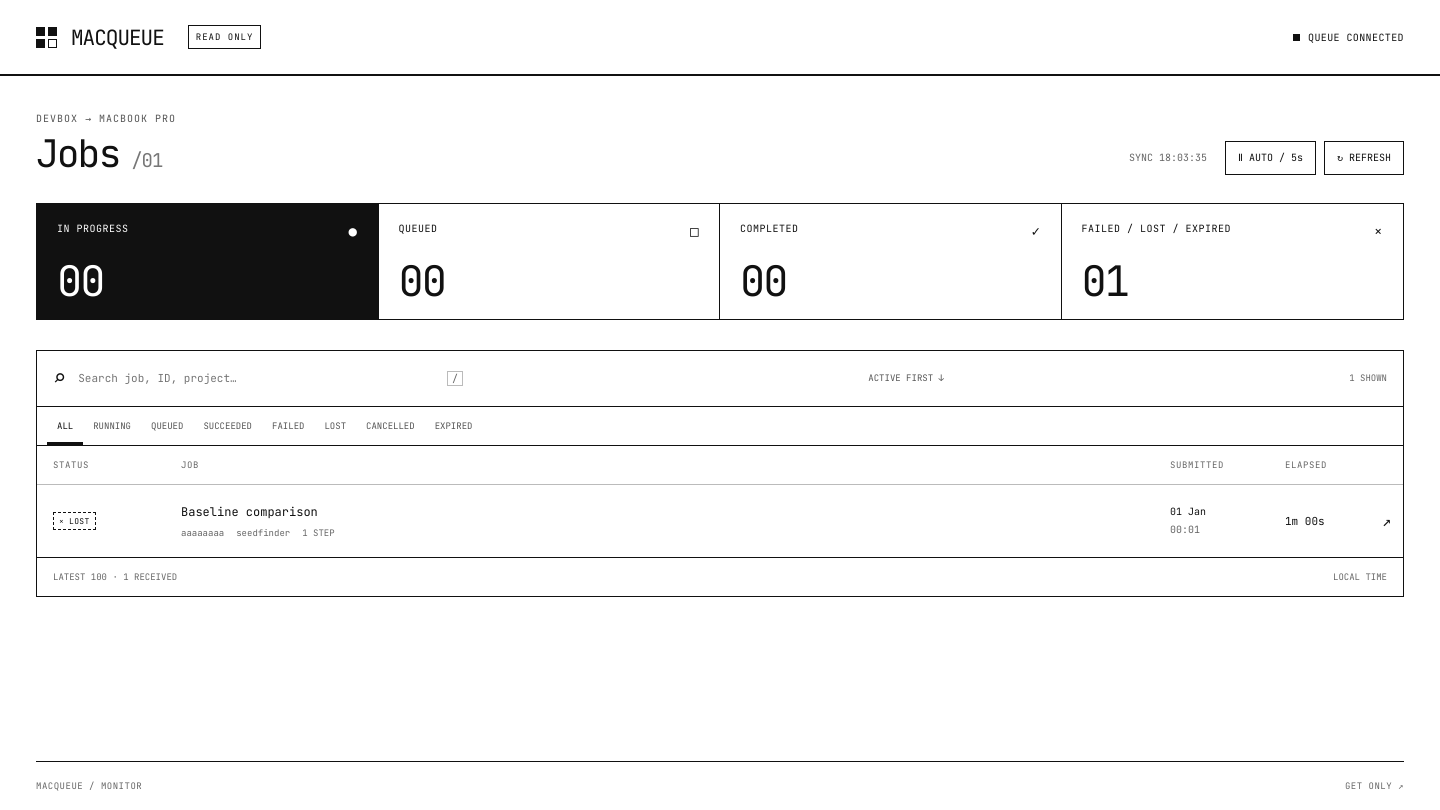
Test: dashboard › retains the last queue snapshot on disconnect and recovers on refresh
The width and height of the screenshot is (1440, 810).
expect the button with aria-label "Open Baseline comparison" is shown: met, box 181,503 -> 1138,521
What coordinates should you click on to do the following:
click the button with aria-label "Refresh jobs"
I would click on:
 (1364, 158)
Its box is 1324,141 -> 1404,175.
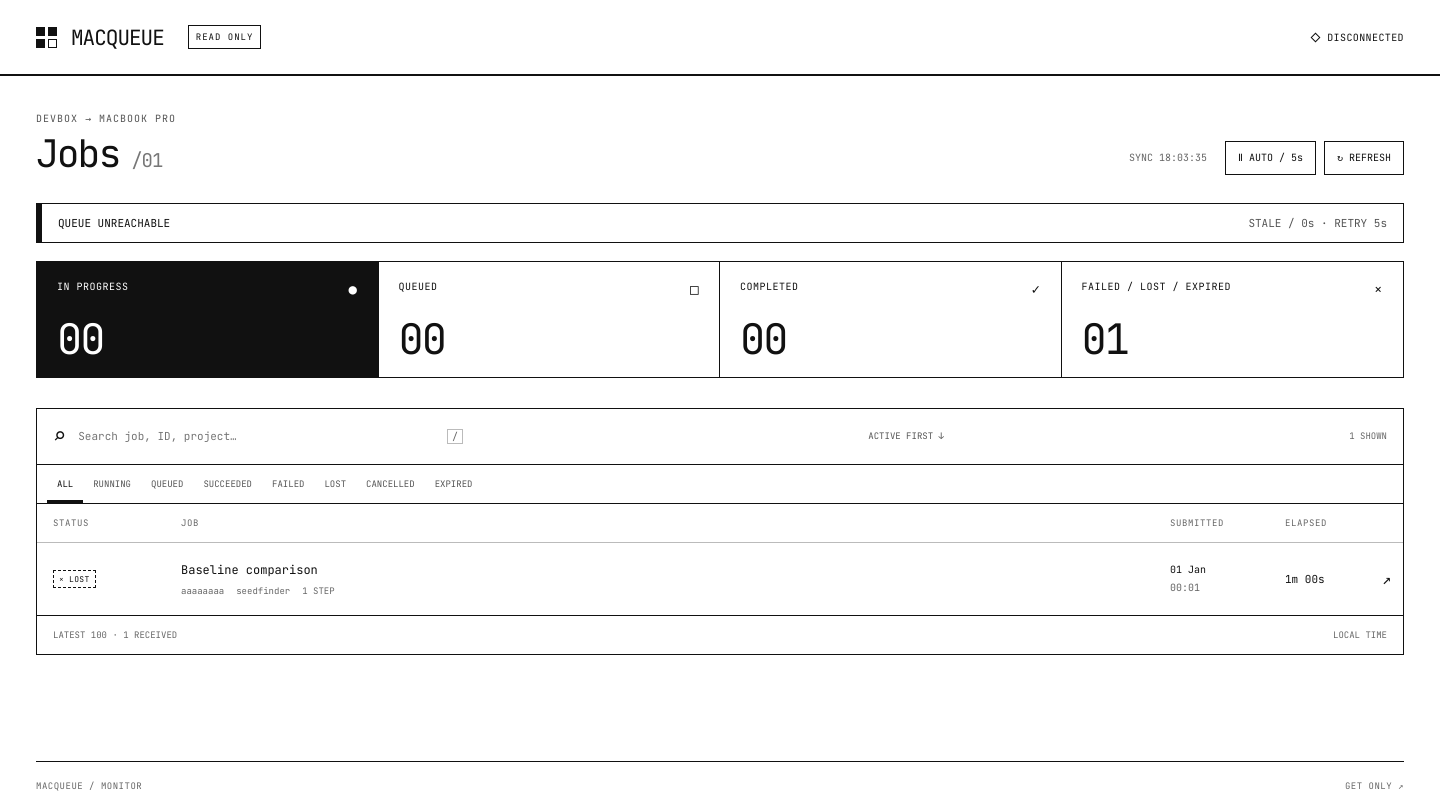
expect the button with aria-label "Open Baseline comparison" is shown: met, box 181,561 -> 1138,579
expect the text "QUEUE UNREACHABLE" is shown: met, box 58,216 -> 170,230
expect the text "STALE / 0s · RETRY 5s" is shown: met, box 1248,216 -> 1387,230
What coordinates should you click on to do the following:
click the button with aria-label "Refresh jobs"
I would click on:
 (1364, 158)
Its box is 1324,141 -> 1404,175.
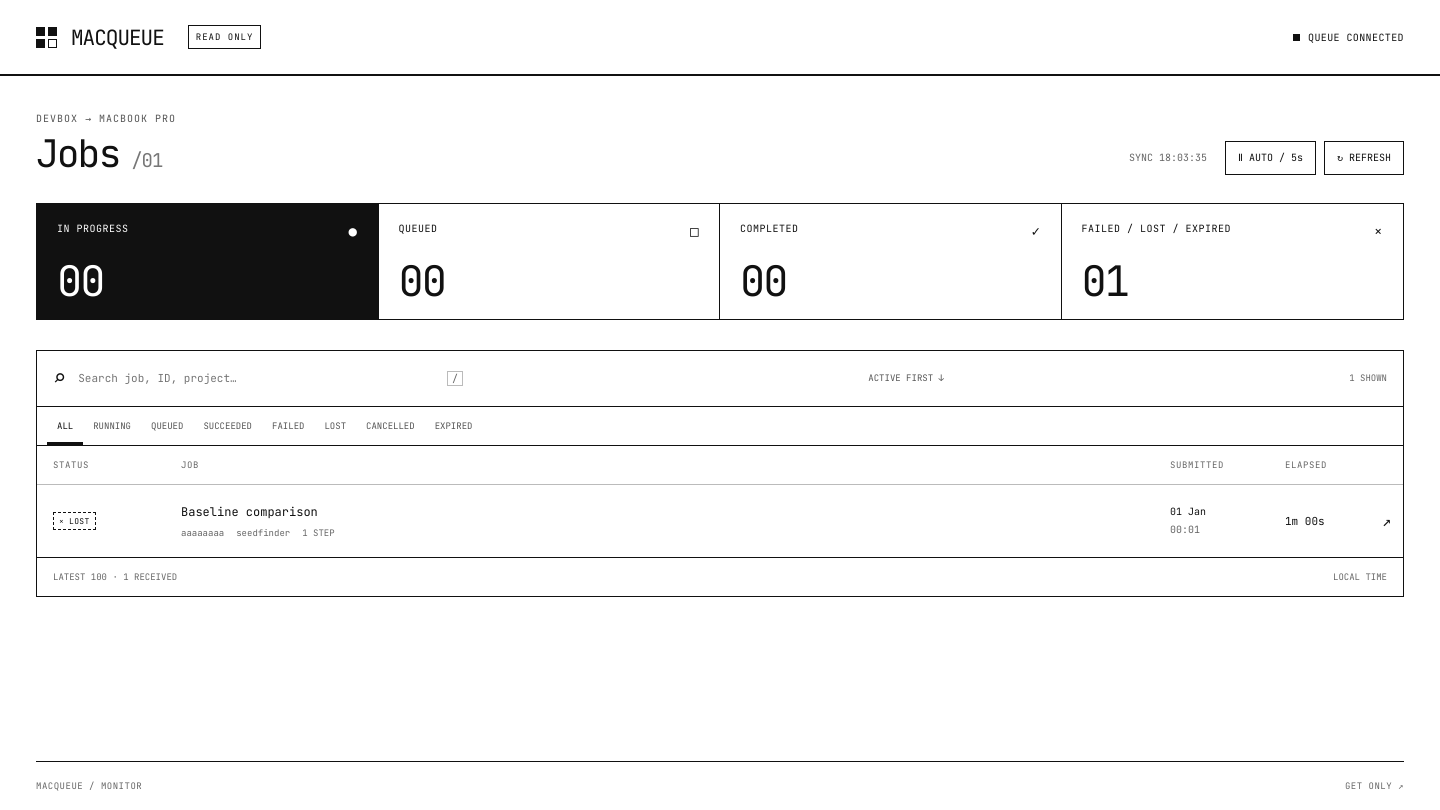
expect the text "QUEUE UNREACHABLE" is gone: met
